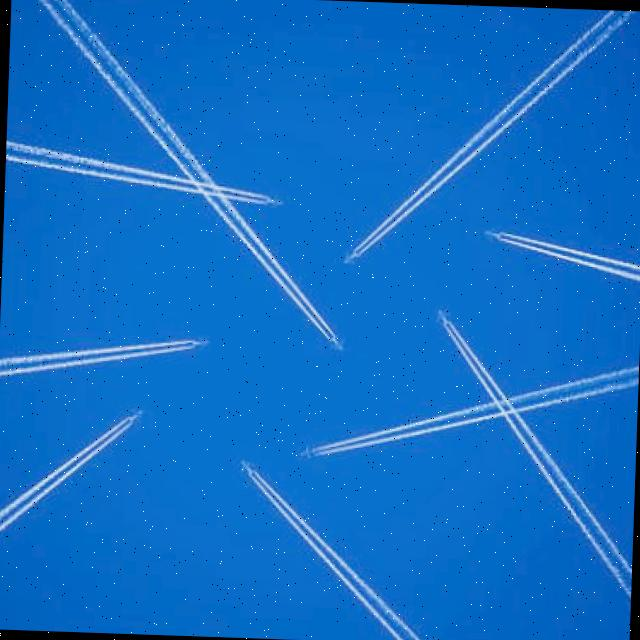Ct: (1, 3, 640, 548)
